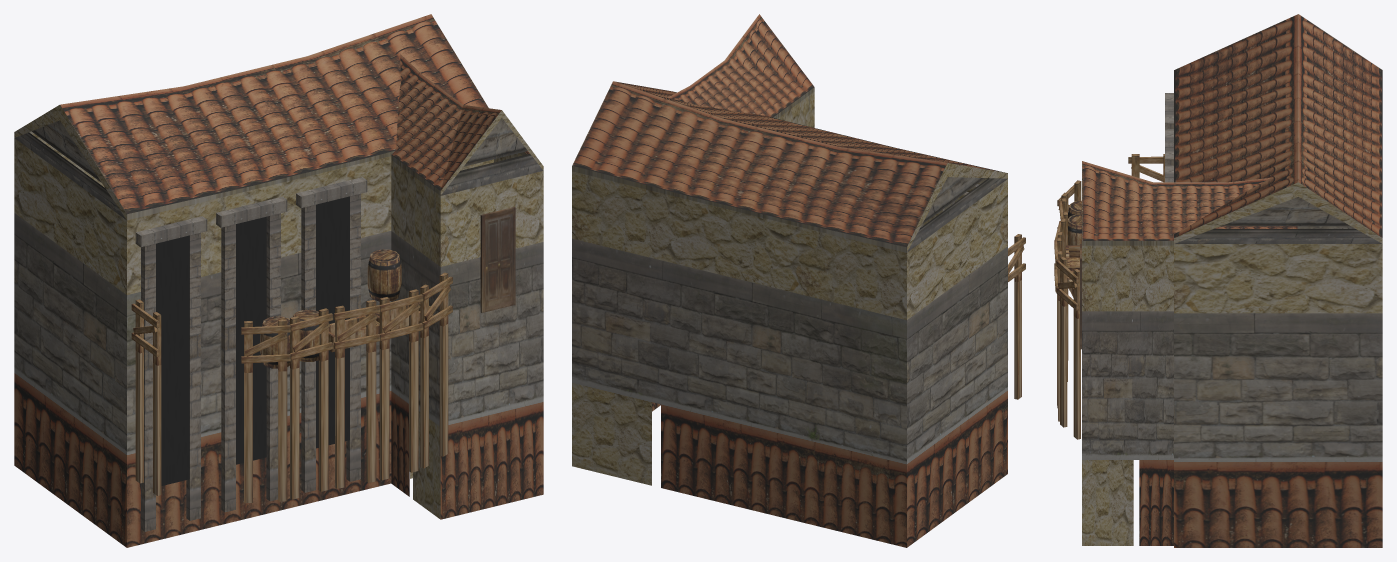
Rendered from stable.dae.
3 views of the same model, side by side, from view 1: azimuth 30°, elevation 25°; view 2: azimuth 150°, elevation 25°; view 3: azimuth 270°, elevation 25° (orthographic). The views are drawn at different scales.
Parts seen in each view (by area): view 1: StableOfMexico; view 2: StableOfMexico; view 3: StableOfMexico.
Boxes of the visible parts, left/top/right/bottom form: StableOfMexico: left=14, top=14, right=543, bottom=547; StableOfMexico: left=572, top=14, right=1025, bottom=547; StableOfMexico: left=1054, top=14, right=1382, bottom=547.
Size of the model in its own units: 19.43 by 16.03 by 19.73.
Materials: 1 (1 with a texture image).
